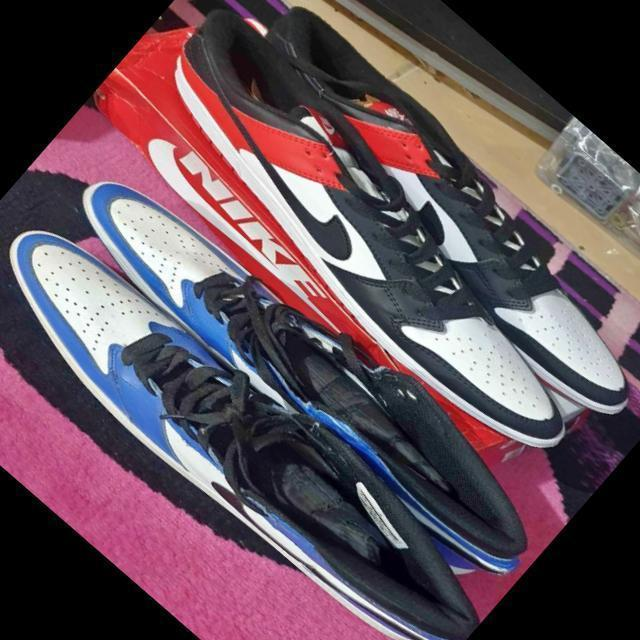nike fake jordan 1: (96, 0, 640, 483), (54, 137, 572, 609), (0, 200, 500, 640), (195, 0, 640, 434)
